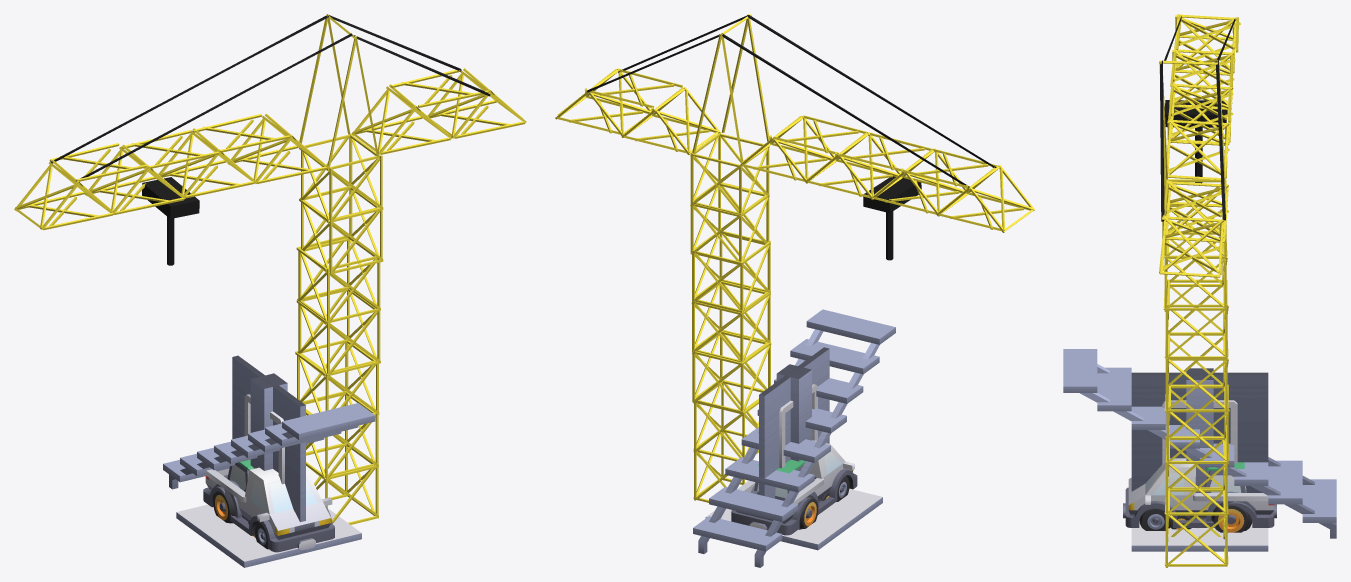
File: construccion.glb
3 renders of one model, left to right at view 1: azimuth 30°, elevation 25°; view 2: azimuth 150°, elevation 25°; view 3: azimuth 270°, elevation 25°, orthographic. The views are drawn at different scales.
Visible parts, largest first — view 1: body (×2), stairs-open, floor, wall-window-square, group776536491, group307797914, group533580267, group1775780259, wall, group509876920, group795856984, group880570556 (+12 smaller); view 2: stairs-open, wall, body, floor, group776536491, group533580267, group509876920, group307797914, group1775780259, group795856984, column, group880570556 (+12 smaller); view 3: stairs-open, wall, wall-window-square, body (×2), floor, group776536491, group1646145142, group533580267, group1751413145, group509876920, column, group1532226185 (+14 smaller).
Part boxes in pixels (x1=…): body (×2): x1=203, y1=459, x2=334, y2=552; stairs-open: x1=163, y1=403, x2=375, y2=489; floor: x1=176, y1=504, x2=361, y2=567; wall-window-square: x1=232, y1=357, x2=300, y2=521; group776536491: x1=296, y1=235, x2=380, y2=322; group307797914: x1=299, y1=133, x2=383, y2=222; group533580267: x1=296, y1=289, x2=380, y2=375; group1775780259: x1=299, y1=187, x2=383, y2=274; wall: x1=232, y1=355, x2=305, y2=554; group509876920: x1=295, y1=340, x2=379, y2=415; group795856984: x1=14, y1=159, x2=113, y2=229; group880570556: x1=351, y1=84, x2=452, y2=154; stairs-open: x1=693, y1=309, x2=895, y2=567; wall: x1=759, y1=347, x2=829, y2=498; body: x1=731, y1=440, x2=857, y2=535; floor: x1=705, y1=489, x2=882, y2=550; group776536491: x1=691, y1=228, x2=770, y2=312; group533580267: x1=691, y1=281, x2=770, y2=362; group509876920: x1=691, y1=331, x2=771, y2=413; group307797914: x1=690, y1=132, x2=769, y2=214; group1775780259: x1=690, y1=183, x2=769, y2=264; group795856984: x1=936, y1=165, x2=1034, y2=232; column: x1=776, y1=364, x2=811, y2=461; group880570556: x1=621, y1=87, x2=719, y2=154; stairs-open: x1=1063, y1=349, x2=1336, y2=538; wall: x1=1131, y1=372, x2=1268, y2=492; wall-window-square: x1=1131, y1=375, x2=1268, y2=492; body (×2): x1=1123, y1=458, x2=1276, y2=527; floor: x1=1131, y1=521, x2=1268, y2=551; group776536491: x1=1164, y1=279, x2=1228, y2=360; group1646145142: x1=1166, y1=119, x2=1229, y2=179; group533580267: x1=1164, y1=334, x2=1228, y2=413; group1751413145: x1=1164, y1=436, x2=1228, y2=516; group509876920: x1=1166, y1=384, x2=1229, y2=464; column: x1=1186, y1=368, x2=1213, y2=492; group1532226185: x1=1164, y1=487, x2=1228, y2=567.
Size of the model in its own units: 24.53 by 24 by 12.
Materials: 23 (6 with a texture image).
